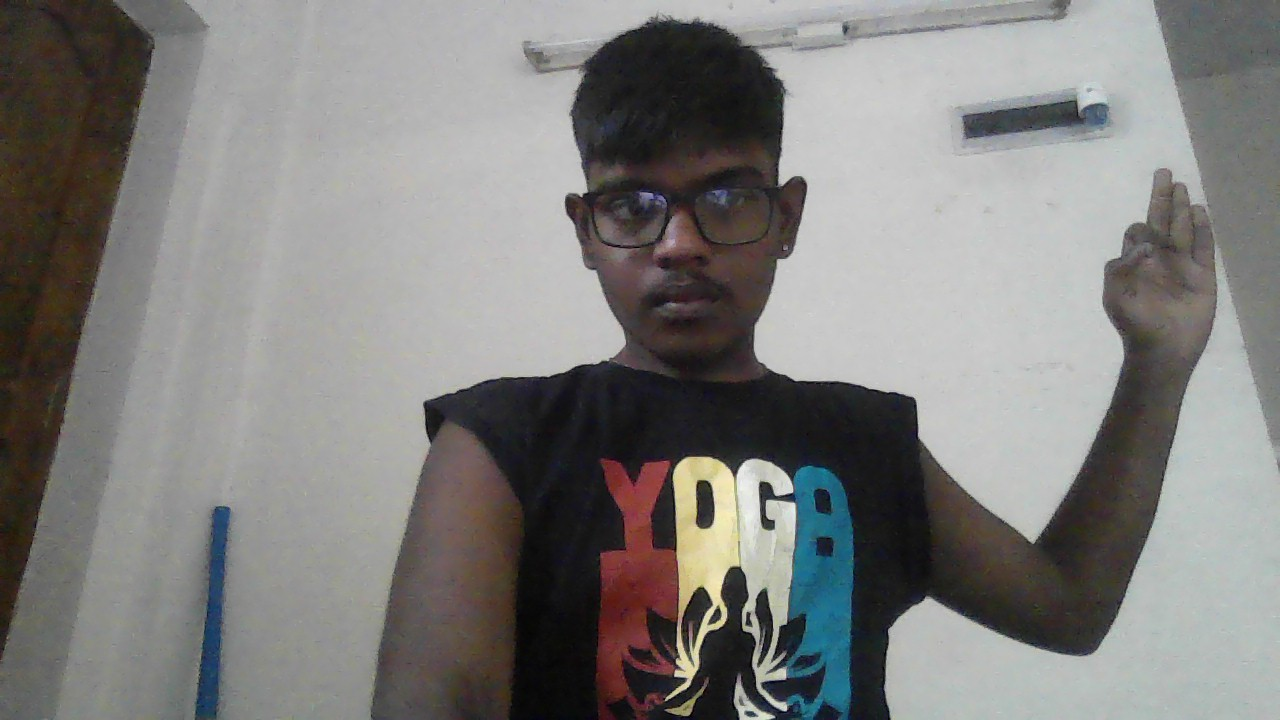F: (1103, 169, 1219, 374)
